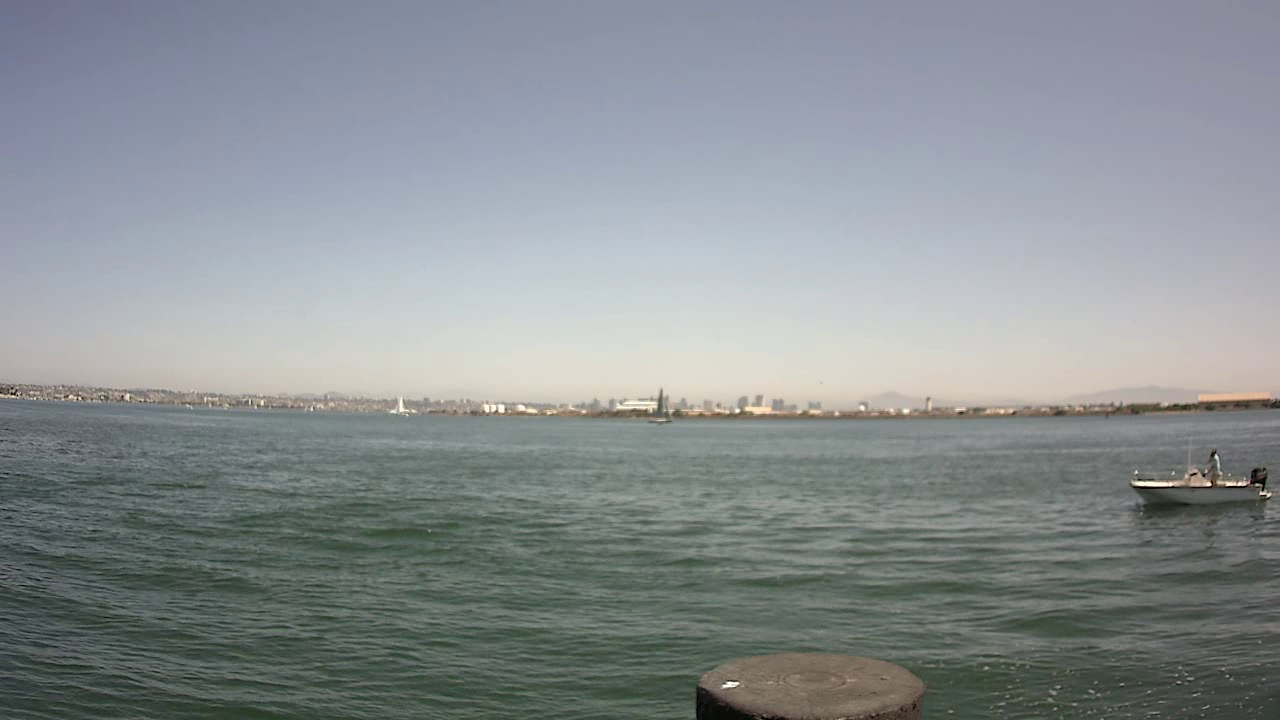target: (1128, 443, 1280, 515)
